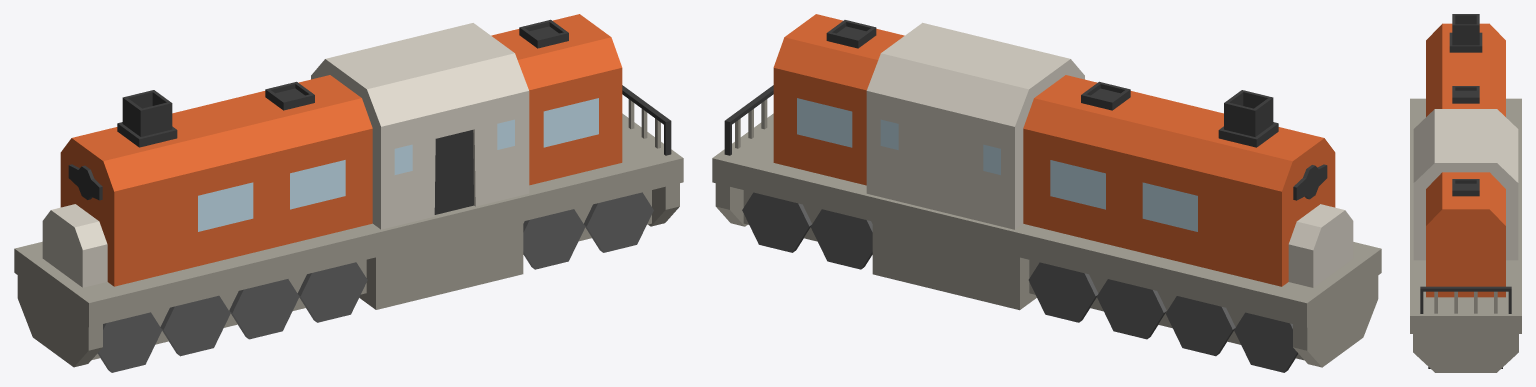
The model's file is Train.fbx.
3 views of the same model, side by side, from view 1: azimuth 30°, elevation 25°; view 2: azimuth 150°, elevation 25°; view 3: azimuth 270°, elevation 25° (orthographic). The views are drawn at different scales.
Parts seen in each view (by area): view 1: Train; view 2: Train; view 3: Train.
Part boxes in pixels (<box>): Train: <box>14,14,683,372</box>; Train: <box>712,14,1381,372</box>; Train: <box>1410,14,1521,372</box>.
Size of the model in its own units: 16.98 by 6.54 by 3.69.
Materials: 1 (1 with a texture image).
